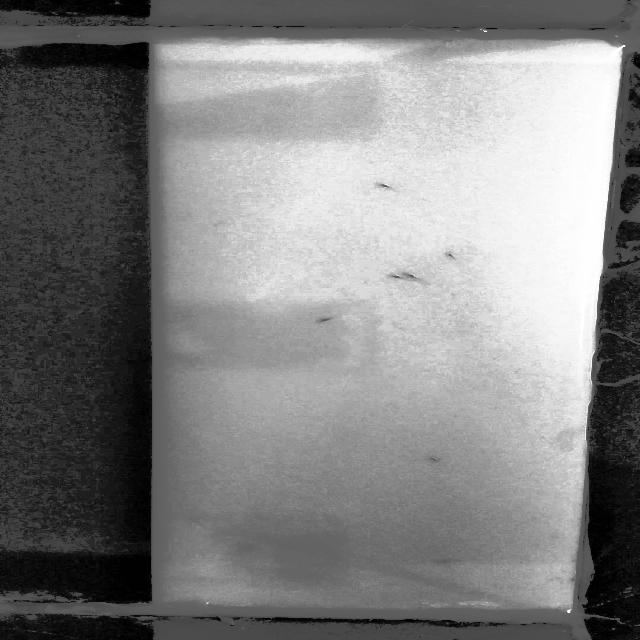shrimp: (399, 268, 427, 286), (384, 271, 416, 284), (429, 555, 460, 566), (439, 248, 462, 262), (317, 312, 339, 323), (427, 457, 448, 467), (381, 184, 398, 190)
